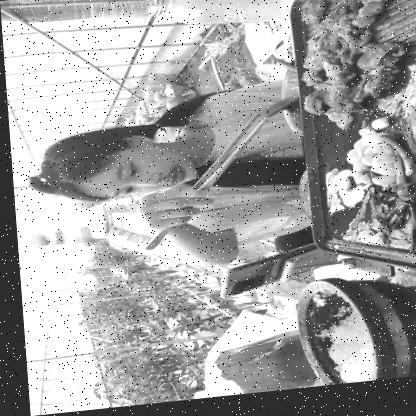streamer: (17, 82, 311, 285)
